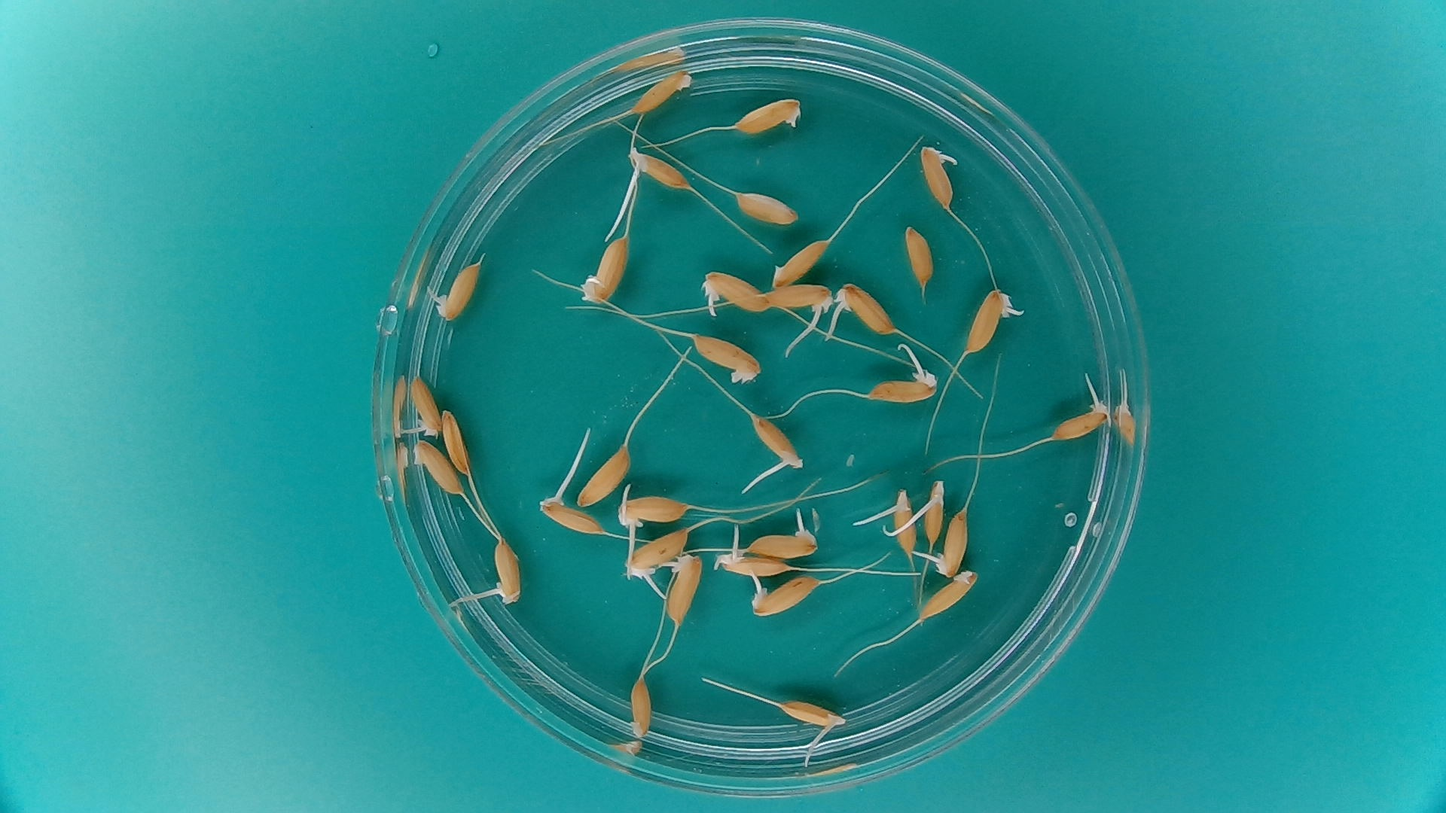no: (578, 231, 633, 308), (689, 332, 765, 385), (916, 567, 980, 623), (410, 437, 466, 498), (627, 66, 695, 116), (770, 235, 831, 288), (576, 446, 628, 508), (730, 95, 804, 137), (733, 192, 800, 230), (440, 406, 472, 477), (903, 224, 935, 286), (626, 674, 654, 738)
yes: (963, 285, 1024, 357), (748, 410, 806, 474), (624, 527, 694, 580), (431, 255, 485, 323), (832, 282, 897, 338), (661, 549, 705, 628), (700, 269, 773, 314), (747, 574, 822, 617), (865, 362, 941, 403), (624, 146, 693, 191), (916, 142, 959, 214), (1050, 394, 1111, 443), (929, 507, 970, 579), (620, 488, 692, 529), (537, 494, 606, 536), (746, 519, 822, 557), (776, 697, 847, 735), (488, 535, 524, 607), (767, 282, 833, 318), (884, 486, 917, 556), (407, 372, 441, 438), (922, 478, 948, 556), (721, 550, 792, 577)
